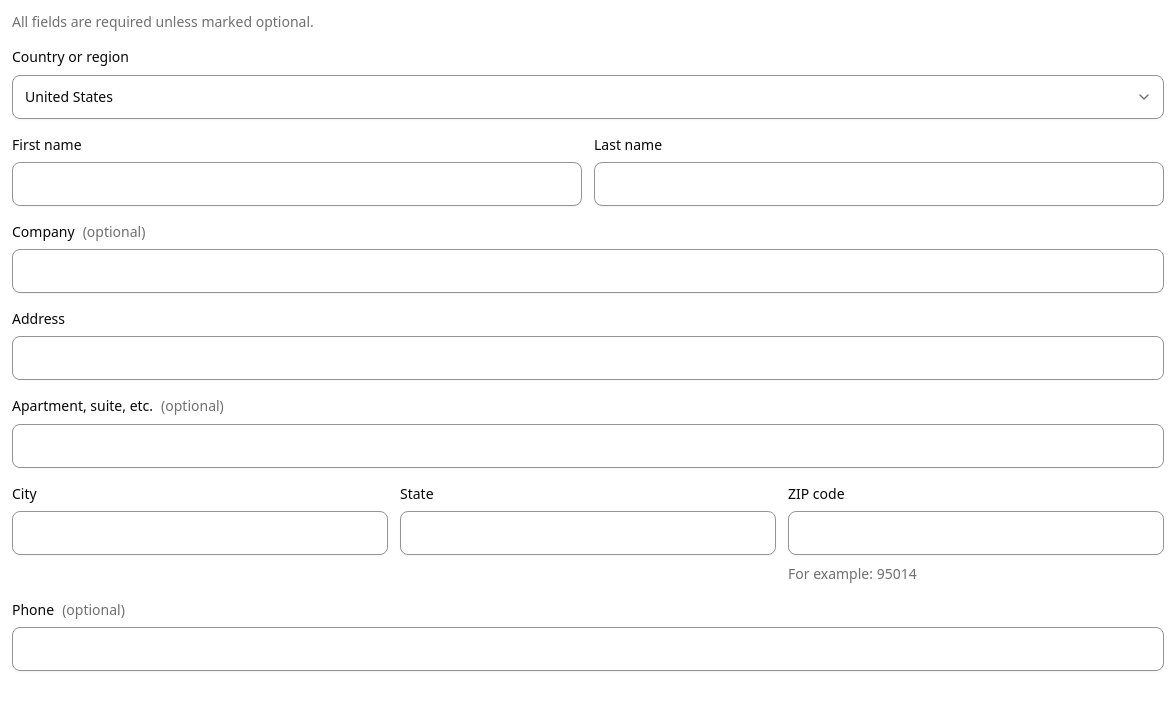
AddressForm › changing the country with JavaScript › gives a field back its text when the shopper returns to the country that has it
This screenshot has width=1176, height=704.
Type "NY" into the field named "province".
click(588, 533); type("NY")  # box [400,511,776,555]
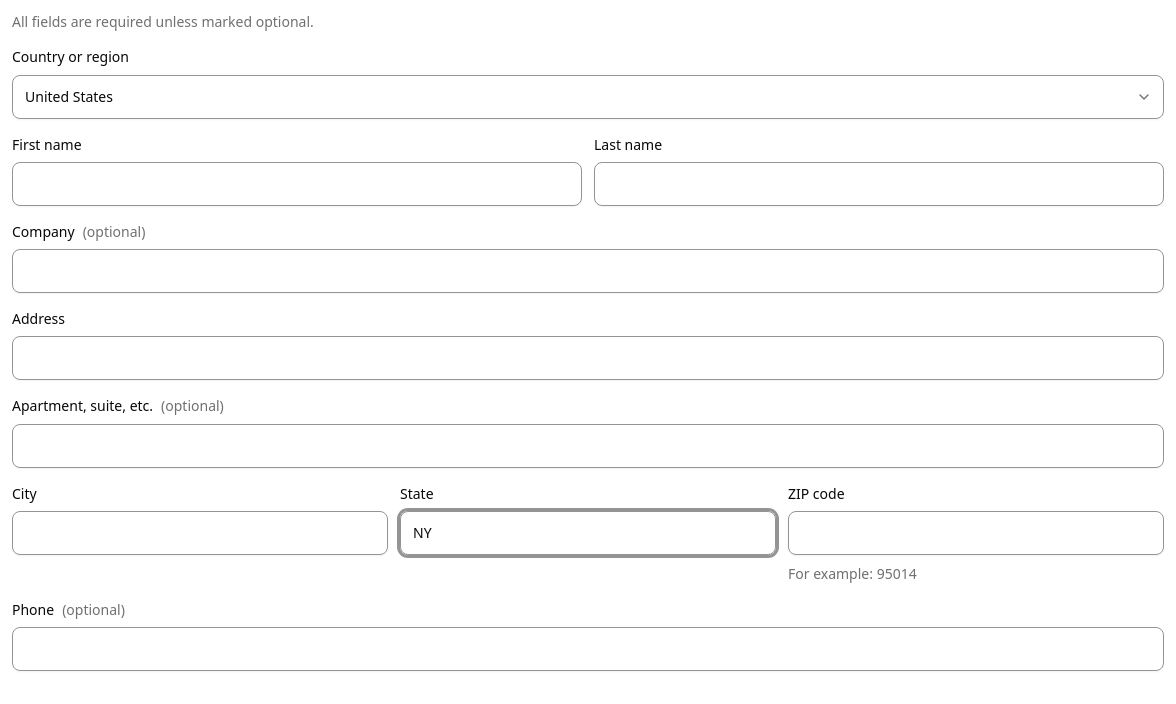
Select "Germany" in the dropdown labelled "Country or region" at (588, 96), box [12,74,1164,118]
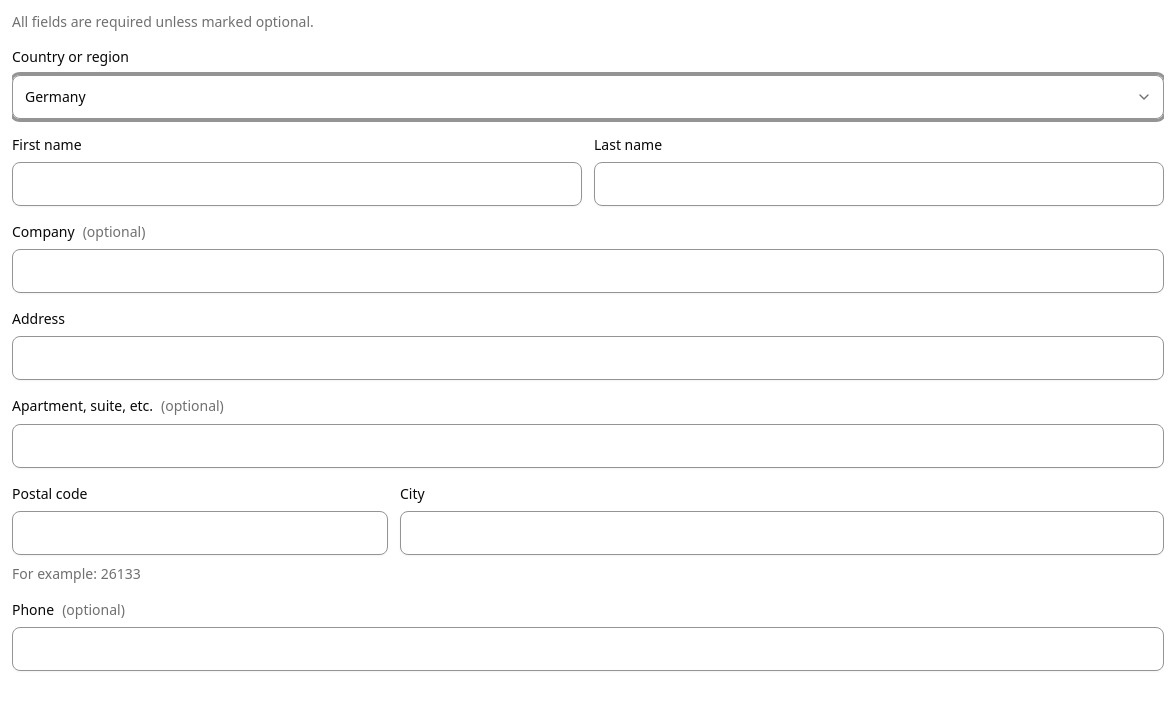
Check: the field named "province" is gone
Select "United States" in the dropdown labelled "Country or region" at (588, 96), box [12,74,1164,118]
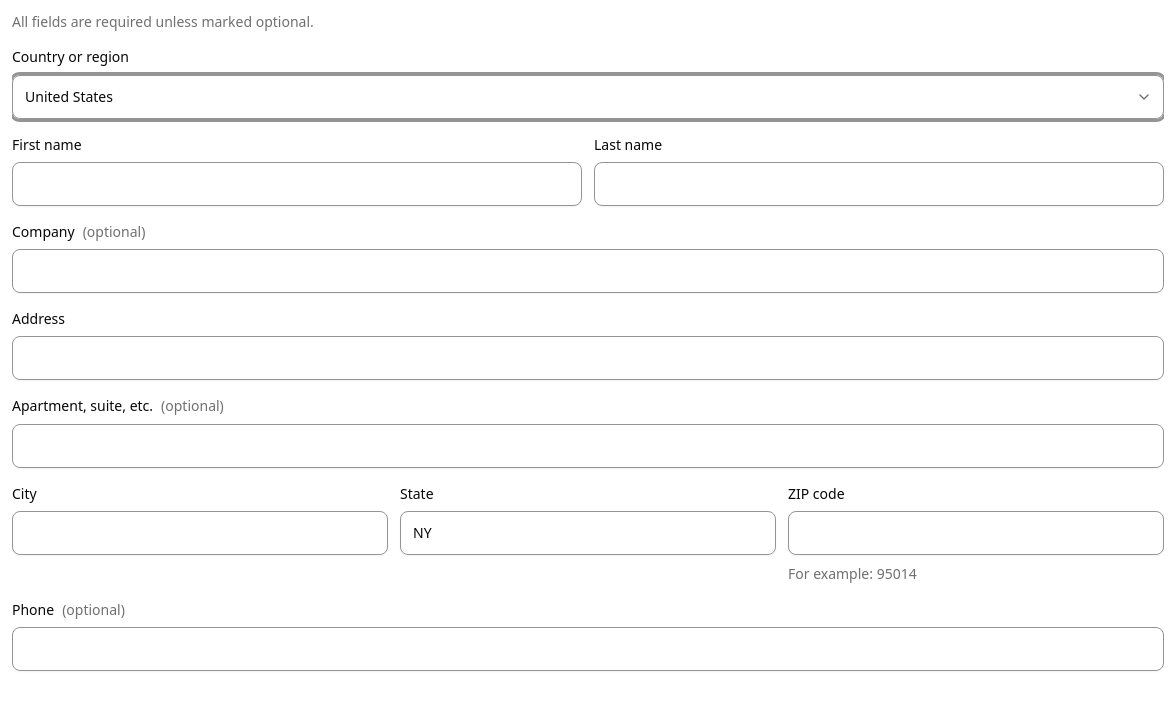
Check: the field named "province" holds "NY", box [400,511,776,555]
